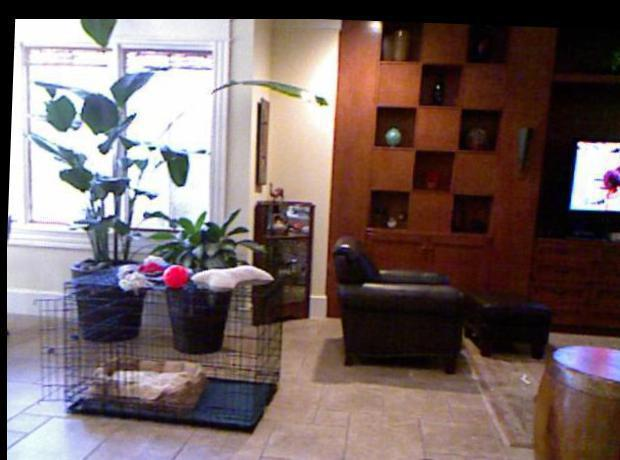Matera: (14, 8, 193, 344), (140, 195, 268, 363)
Otro Obstaculo: (33, 277, 291, 439)
